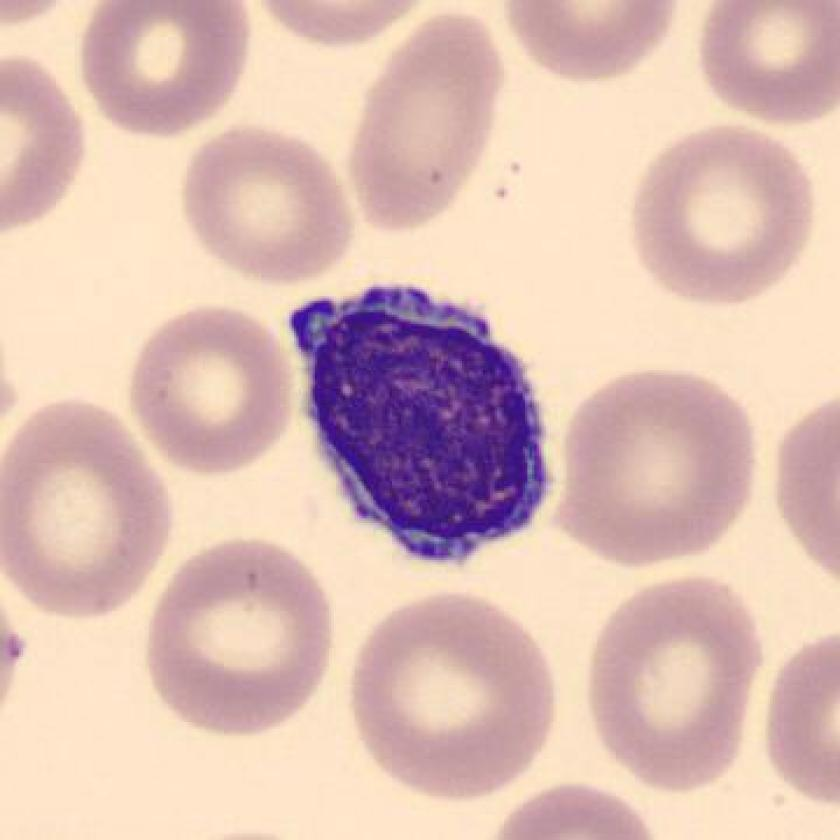lymphocyte: (267, 265, 568, 579)
